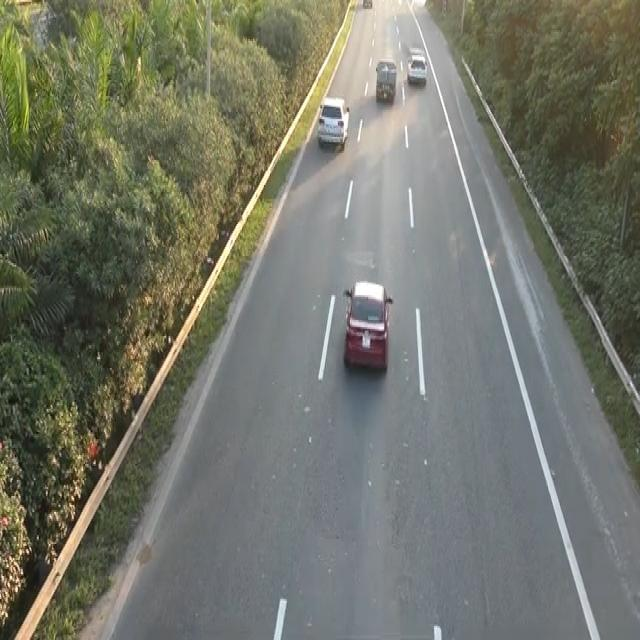bus: (340, 276, 395, 380)
car: (315, 93, 350, 151), (405, 48, 428, 85)
minivan: (374, 55, 397, 103)
